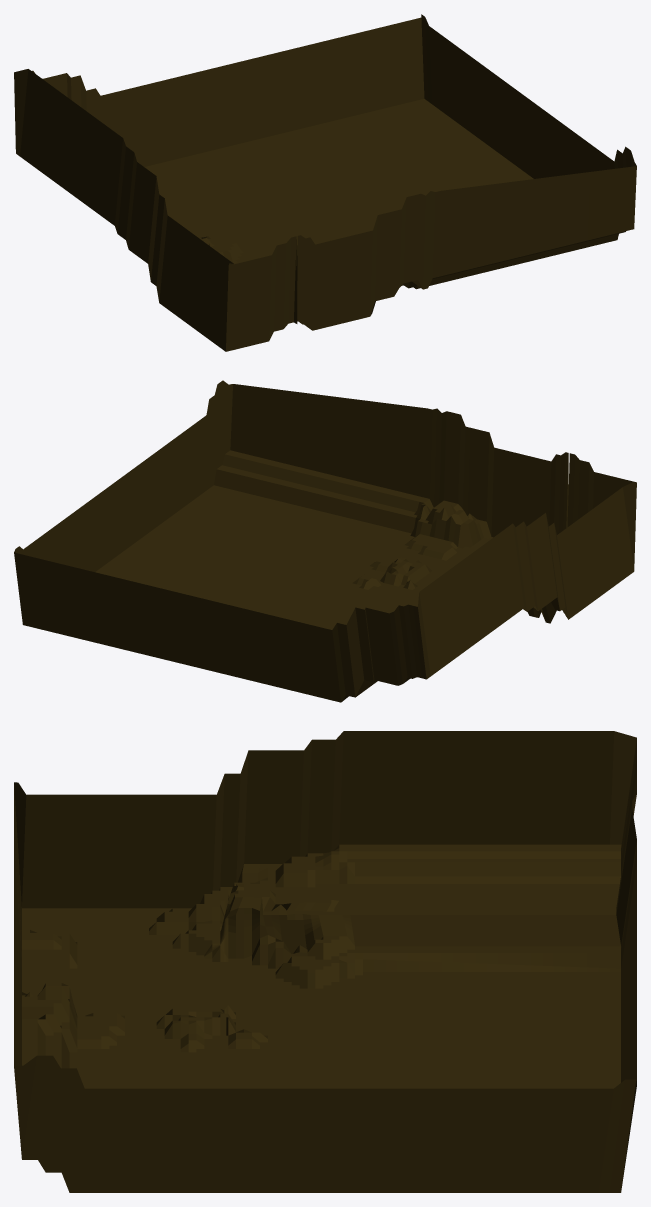
The model's file is world1.glb.
3 renders of one model, top to bottom at view 1: azimuth 30°, elevation 25°; view 2: azimuth 150°, elevation 25°; view 3: azimuth 270°, elevation 25°, orthographic. The views are drawn at different scales.
Visible parts, largest first — view 1: Plane; view 2: Plane; view 3: Plane.
Boxes of the visible parts, x1,y1,x2,y2 form: Plane: (14, 14, 636, 351); Plane: (14, 380, 636, 702); Plane: (14, 731, 636, 1192).
Size of the model in its own units: 76.09 by 22.77 by 69.8.
